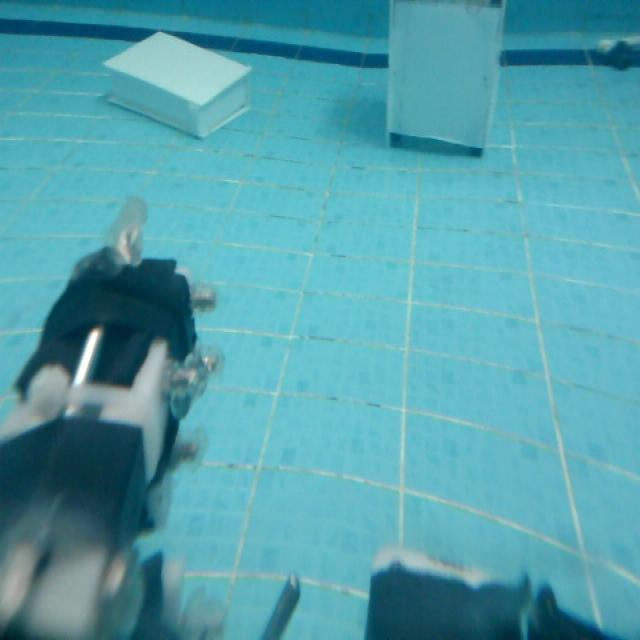Cube: (378, 0, 516, 152)
Cuboid: (100, 27, 252, 138)
